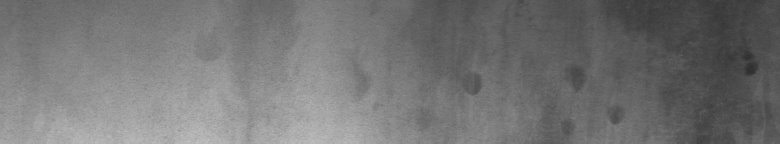fi: (689, 42, 768, 136)
